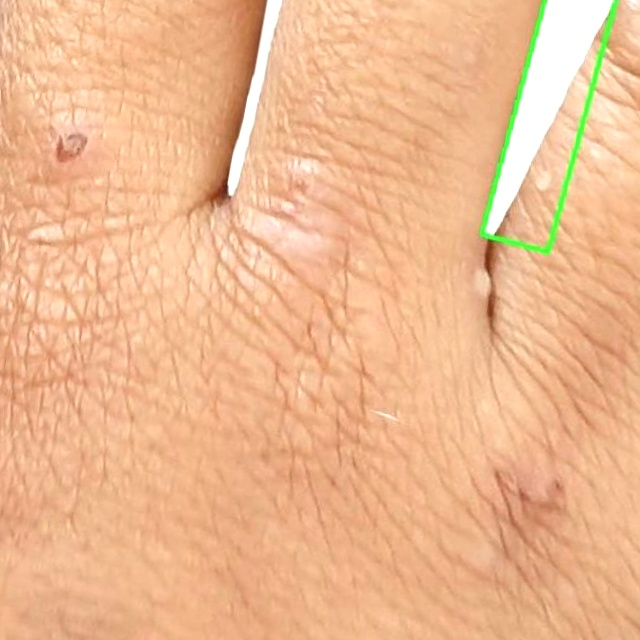Scabies: (481, 0, 614, 252)
